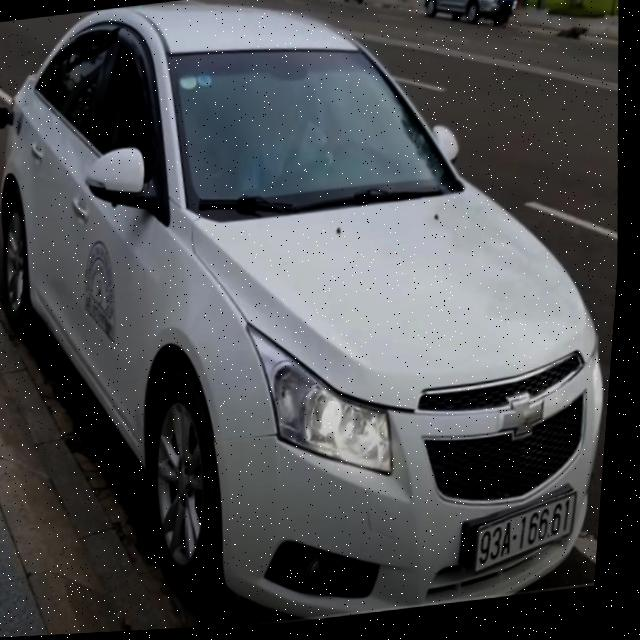car: (0, 0, 640, 640), (409, 0, 522, 33)
plate: (466, 489, 588, 573)
